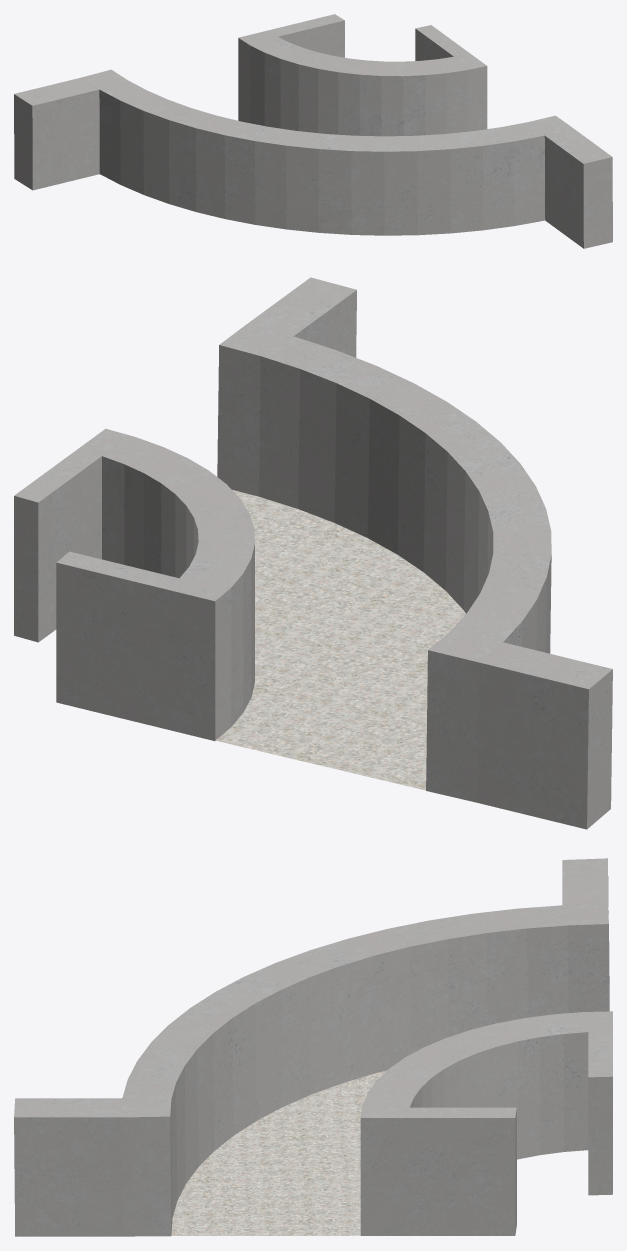
The model's file is tunnel.gltf.
3 renders of one model, top to bottom at view 1: azimuth 30°, elevation 25°; view 2: azimuth 150°, elevation 25°; view 3: azimuth 270°, elevation 25°, orthographic. The views are drawn at different scales.
Parts seen in each view (by area): view 1: Cube.004, Cube.003; view 2: Cube.004, Cube.003, Plane.001; view 3: Cube.004, Cube.003, Plane.001.
Part boxes in pixels (left/top/right/bottom): Cube.004: left=14, top=69, right=612, bottom=248; Cube.003: left=238, top=14, right=487, bottom=136; Cube.004: left=217, top=277, right=612, bottom=829; Cube.003: left=14, top=428, right=254, bottom=740; Plane.001: left=216, top=490, right=465, bottom=790; Cube.004: left=14, top=858, right=609, bottom=1236; Cube.003: left=360, top=1011, right=612, bottom=1235; Plane.001: left=171, top=1070, right=386, bottom=1235.
Bounding box in the file's own units: 25.85 × 5.52 × 25.16.
2 materials, 2 textured.
